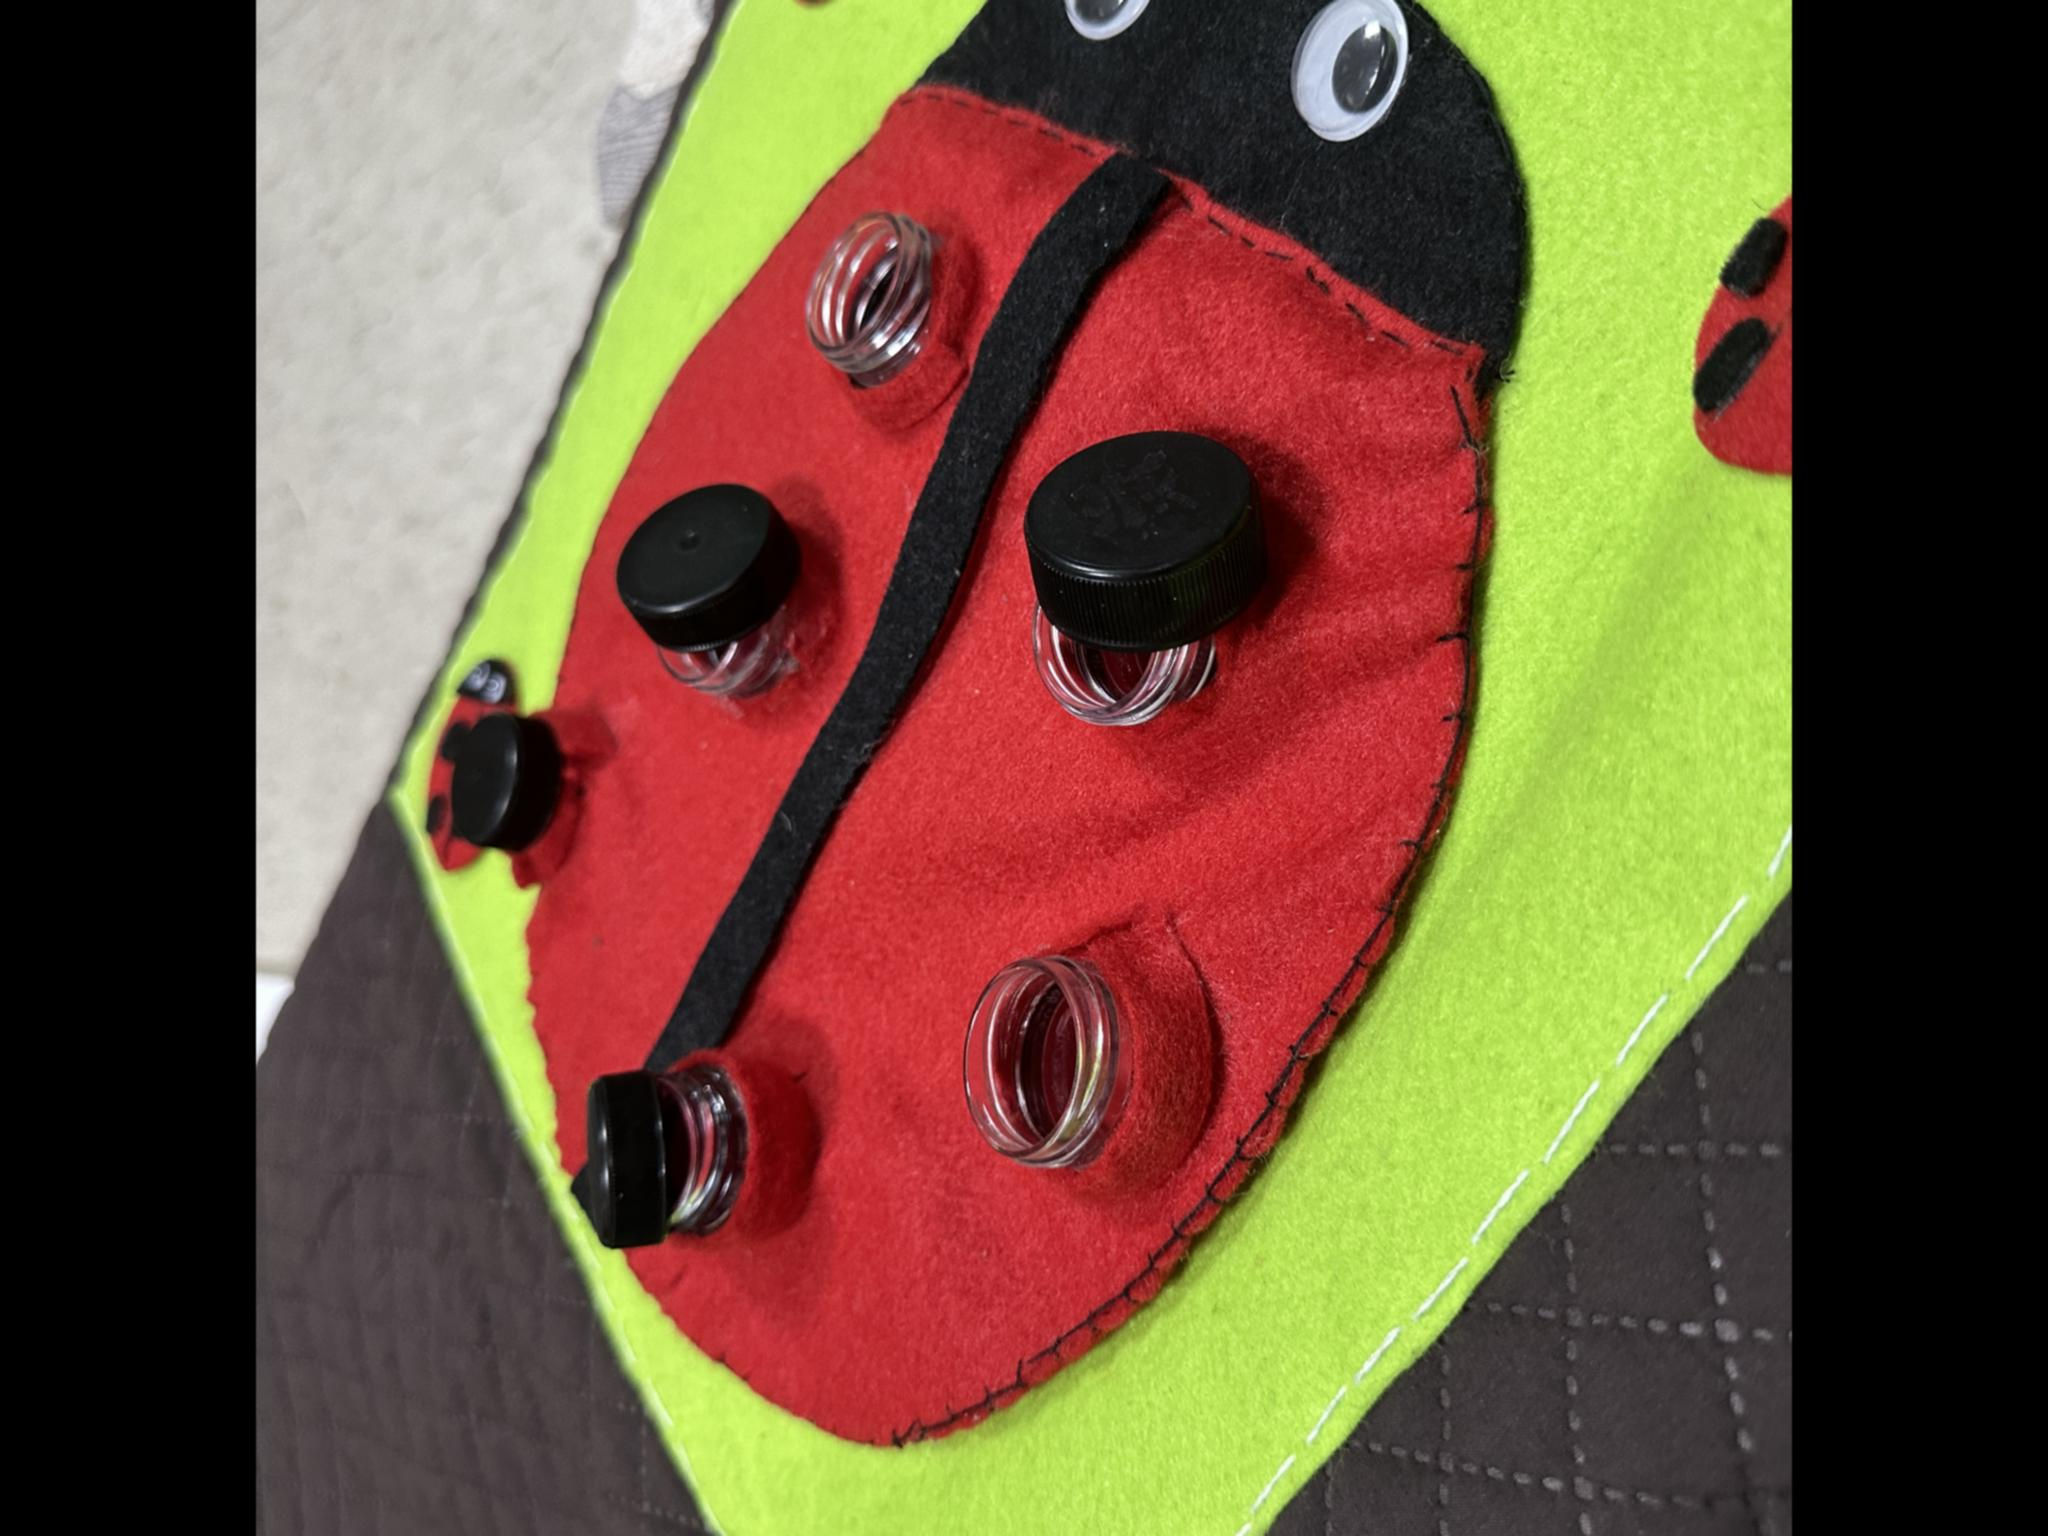cap_ng: (993, 416, 1290, 747), (564, 1028, 827, 1279), (613, 473, 837, 736)
cap_ok: (445, 697, 608, 897)
